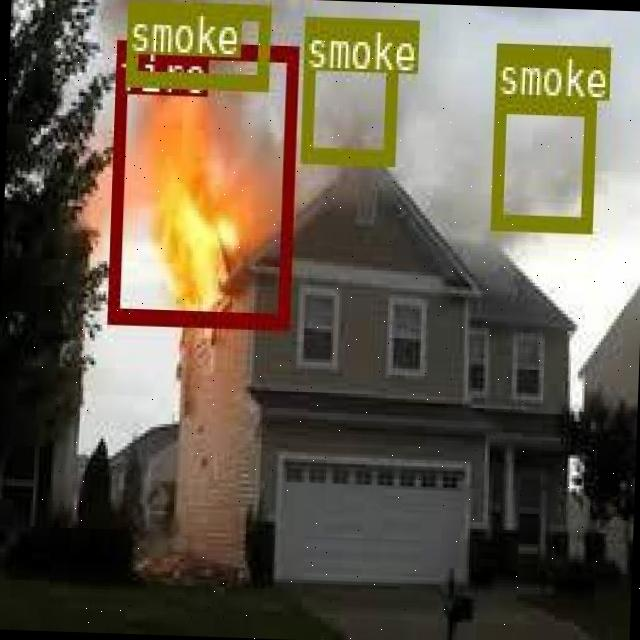fire: (104, 40, 296, 326)
smoke: (299, 13, 396, 164), (488, 94, 594, 229), (123, 0, 268, 86)
